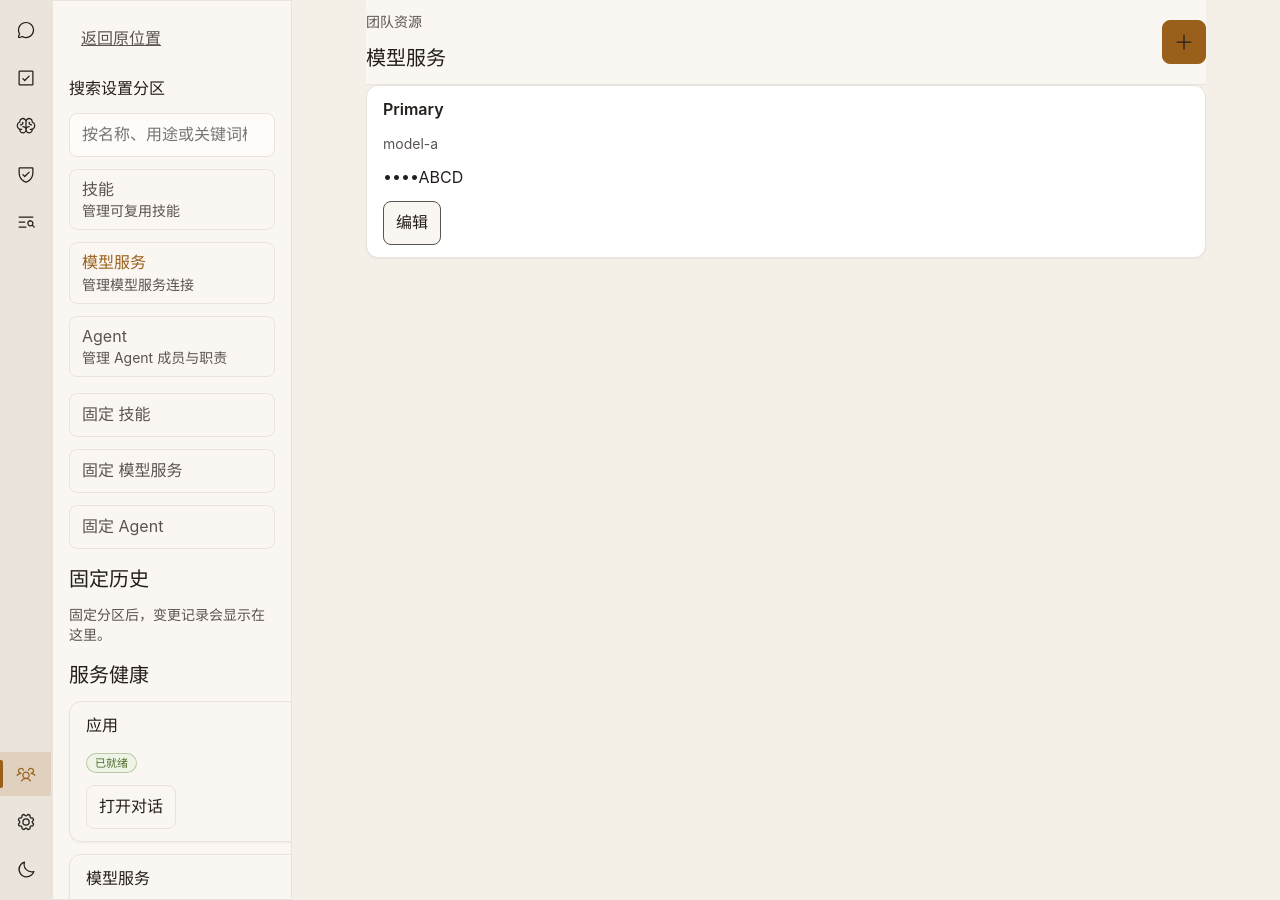
Test: Provider configuration panel › GET-reconciles an uncertain known-provider write without resending it
Click the button with aria-label "编辑 Primary".
click(412, 223)  # box left=383, top=201, right=441, bottom=245
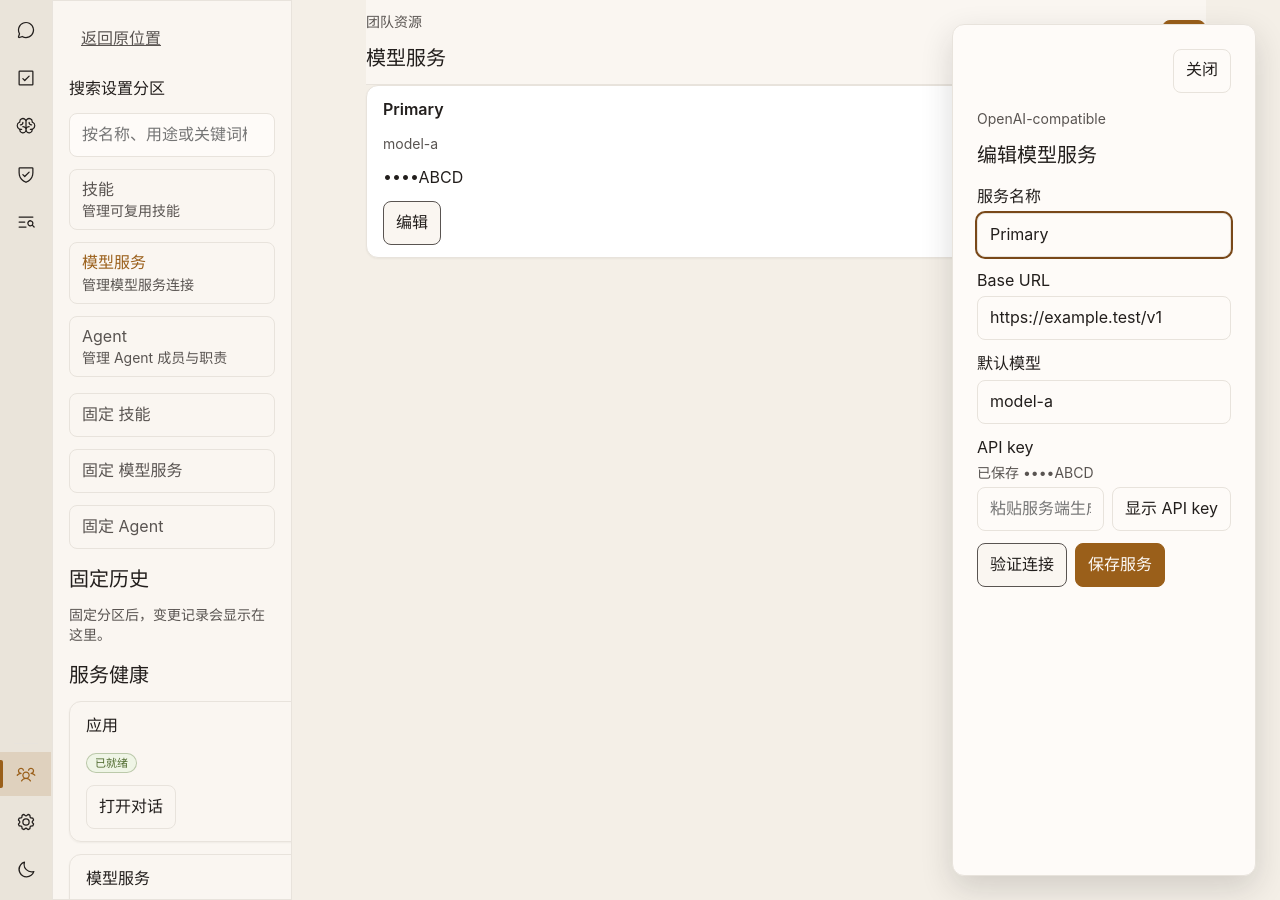
Replace the text in the field labelled "服务名称" with "Reconciled" at (1104, 234), box left=977, top=212, right=1231, bottom=256
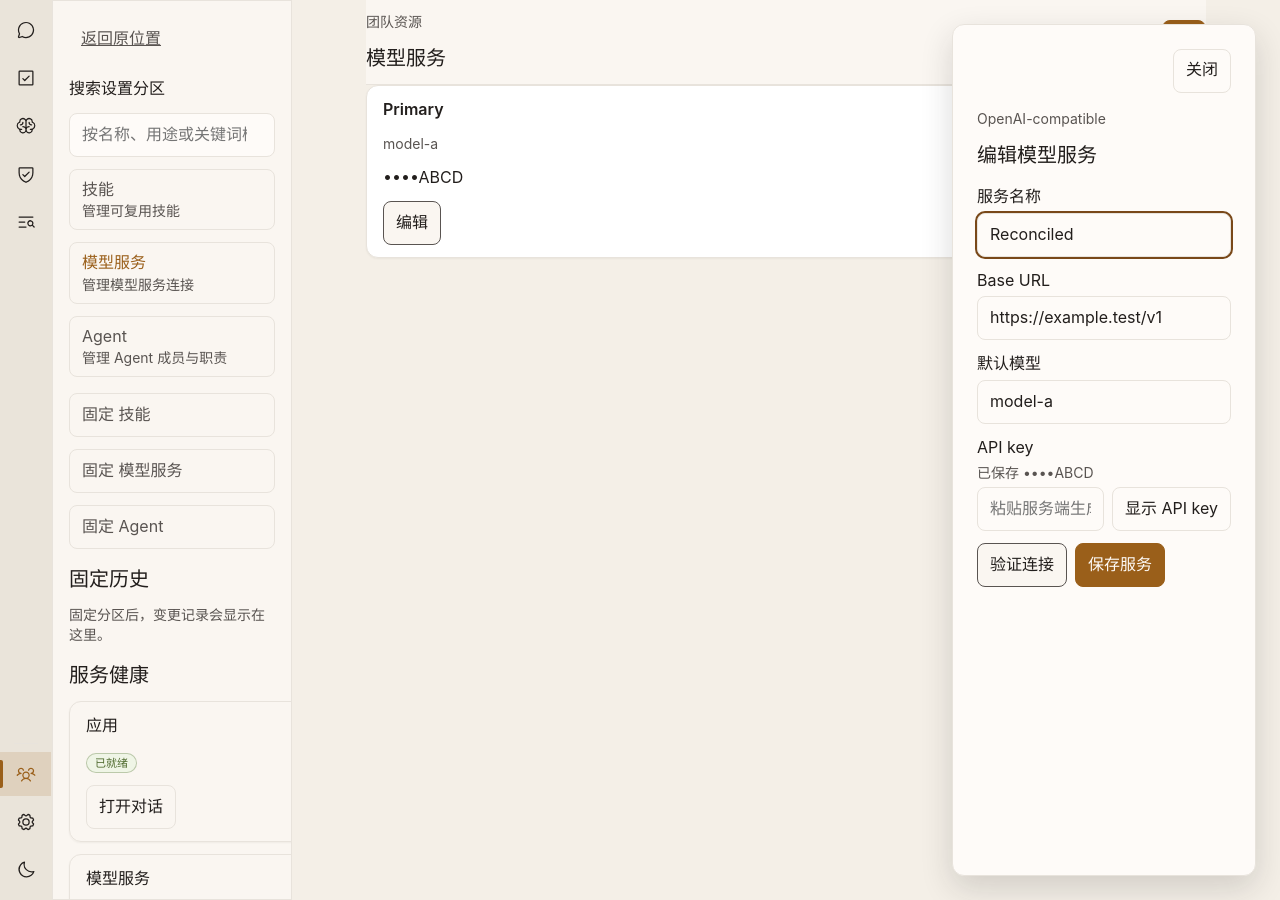
Click the button "保存服务".
click(1120, 565)  # box left=1075, top=543, right=1165, bottom=587
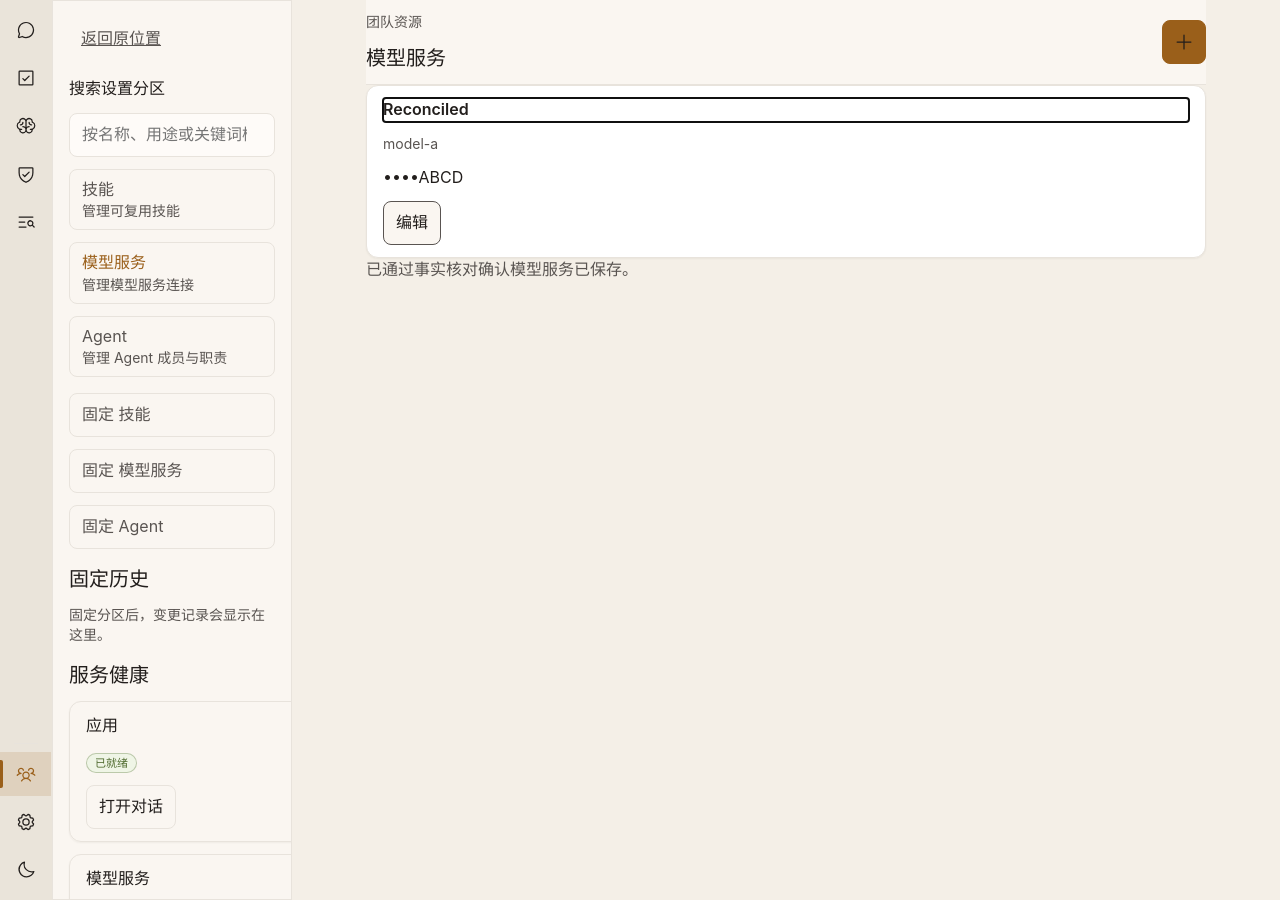
expect the text "已通过事实核对确认模型服务已保存。" is shown: met, box left=366, top=259, right=638, bottom=279
